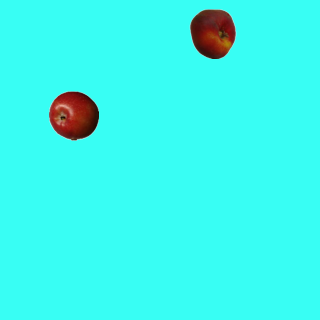Apple Braeburn: (48, 90, 98, 140)
Nectarine Flat: (187, 8, 237, 58)
